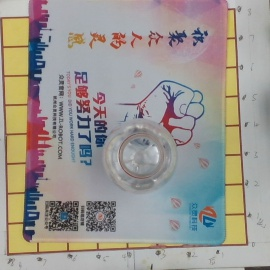bottle: (104, 118, 177, 189)
